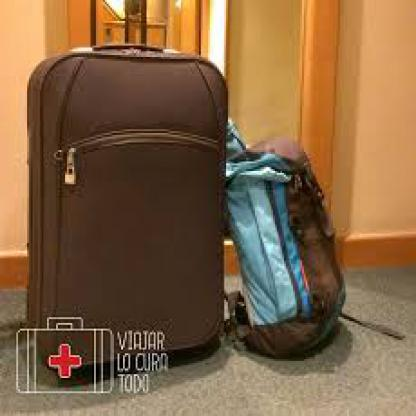maleta: (16, 44, 230, 374)
morral: (215, 125, 407, 376)
